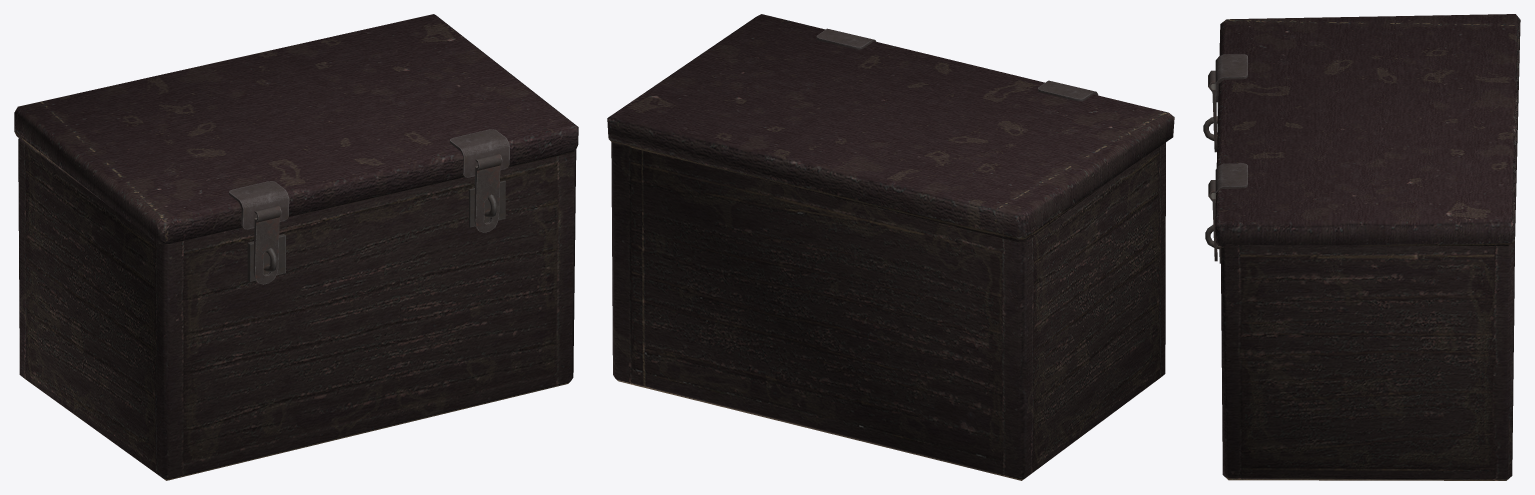
File: chest_fixed.fbx
3 views of the same model, side by side, from view 1: azimuth 30°, elevation 25°; view 2: azimuth 150°, elevation 25°; view 3: azimuth 270°, elevation 25° (orthographic).
Visible parts, largest first — view 1: Line014, top, Box112, Box114, Cylinder010, Cylinder009, Box113, Box115; view 2: Line014, top, Box112, Box114; view 3: Line014, top, Box112, Box114, Cylinder009, Cylinder010.
Boxes of the visible parts, box(x1,y1,x2,y2) form: Line014: box(18, 138, 576, 480); top: box(14, 14, 578, 244); Box112: box(229, 181, 289, 229); Box114: box(449, 129, 509, 177); Cylinder010: box(474, 154, 502, 232); Cylinder009: box(253, 205, 281, 284); Box113: box(247, 234, 285, 281); Box115: box(469, 180, 505, 227); Line014: box(611, 142, 1165, 480); top: box(607, 14, 1174, 241); Box112: box(1038, 80, 1098, 101); Box114: box(816, 28, 875, 49); Line014: box(1220, 242, 1514, 480); top: box(1215, 14, 1520, 247); Box112: box(1215, 54, 1247, 102); Box114: box(1215, 163, 1247, 194); Cylinder009: box(1208, 70, 1217, 152); Cylinder010: box(1208, 180, 1217, 261).
Bounding box in the file's own units: 81.48 × 49.9 × 53.29.
Materials: 4 (4 with a texture image).
